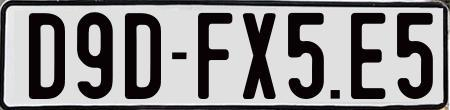5: (396, 11, 437, 100), (288, 10, 327, 102)
9: (75, 11, 113, 104)
D: (123, 11, 163, 99), (27, 13, 63, 102)
E: (351, 11, 386, 103)
F: (196, 12, 235, 100)
X: (241, 10, 277, 96)
